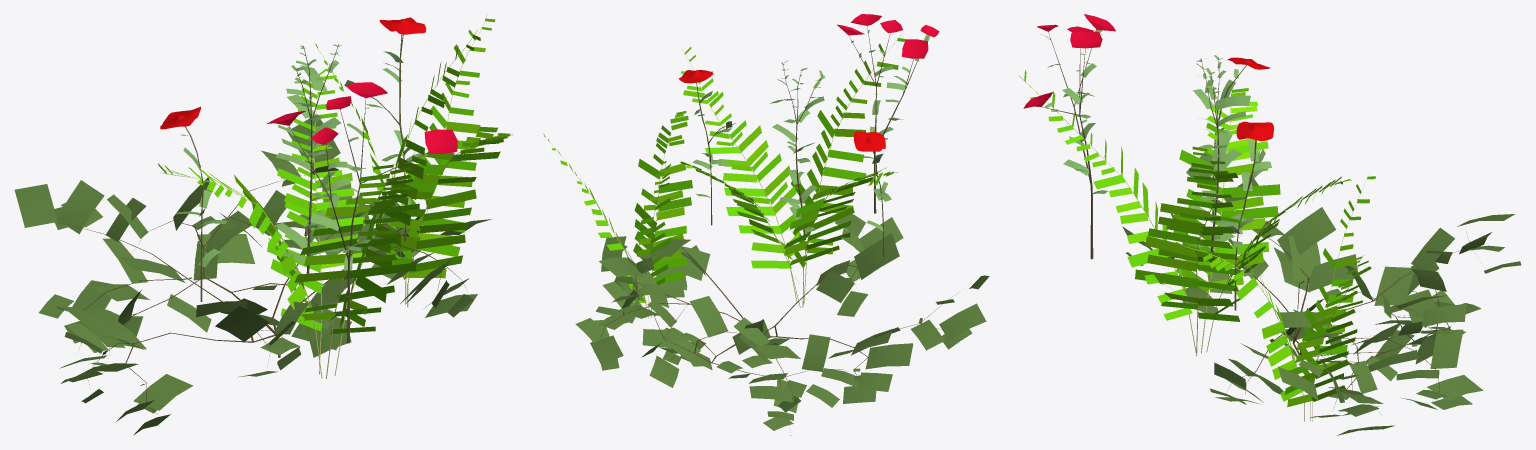
The model's file is Bushes.fbx.
The picture shows the model from 3 angles, left to right: view 1: azimuth 30°, elevation 25°; view 2: azimuth 150°, elevation 25°; view 3: azimuth 270°, elevation 25°; orthographic projection. The views are drawn at different scales.
Visible parts, largest first — view 1: Clover.005; view 2: Clover.005; view 3: Clover.005.
Part boxes in pixels (x1,y1,x2,y2): Clover.005: (14,14,512,435); Clover.005: (542,14,989,435); Clover.005: (1018,14,1521,435).
Bounding box in the file's own units: 186 × 140 × 177.
